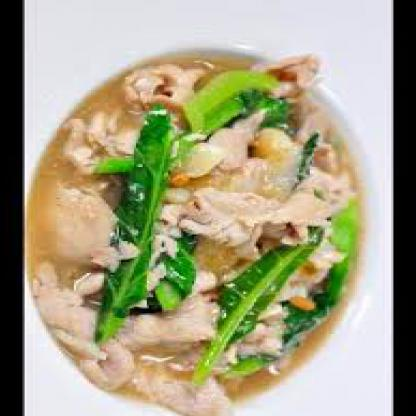Laadna: (3, 1, 368, 404)
